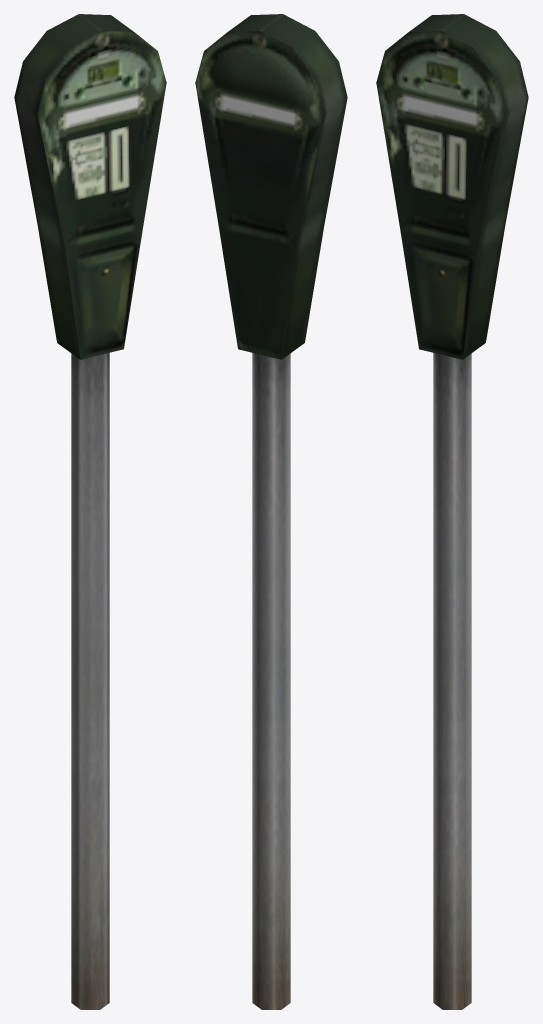
The model's file is parkingmeter.fbx.
3 renders of one model, left to right at view 1: azimuth 30°, elevation 25°; view 2: azimuth 150°, elevation 25°; view 3: azimuth 330°, elevation 25°, orthographic.
Visible parts, largest first — view 1: mesh_0, mesh_1; view 2: mesh_0, mesh_1; view 3: mesh_0, mesh_1.
Part boxes in pixels (x1,y1,x2,y2): mesh_0: (14, 14, 166, 359); mesh_1: (71, 353, 109, 1009); mesh_0: (195, 14, 347, 359); mesh_1: (252, 353, 290, 1009); mesh_0: (376, 14, 528, 359); mesh_1: (433, 353, 471, 1009).
Bounding box in the file's own units: 17.93 × 130 × 6.46.
Materials: 2 (2 with a texture image).
